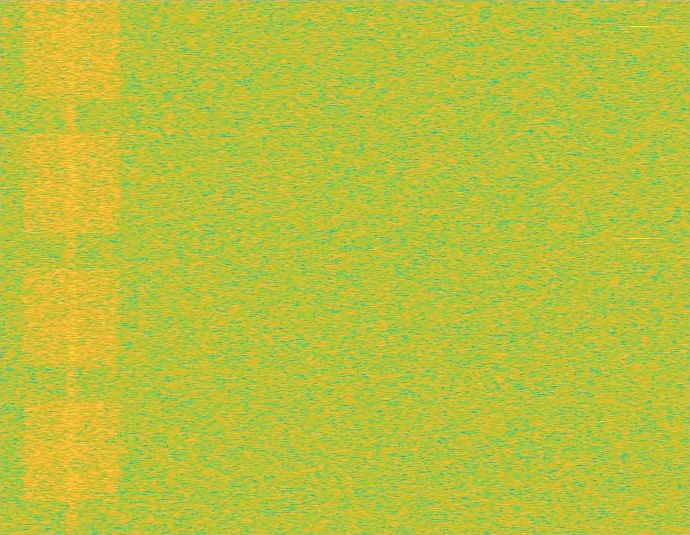5G: (20, 0, 124, 534)
DSSS: (65, 0, 79, 534)
Radar: (632, 0, 646, 534)
